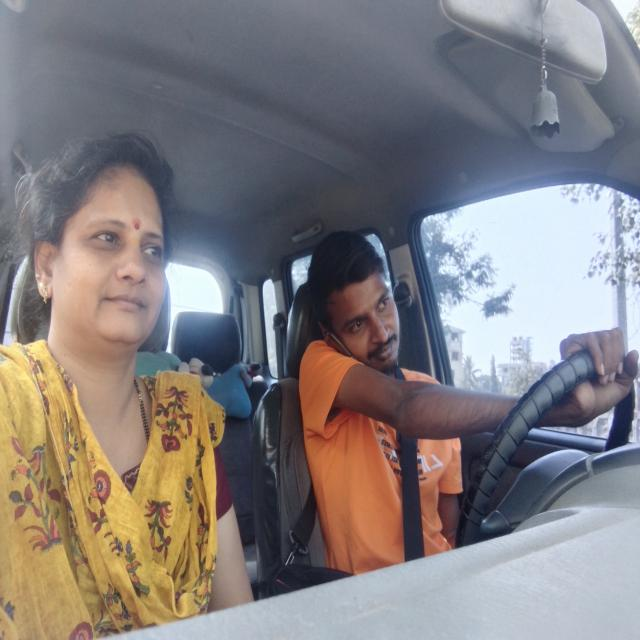mobile: (322, 328, 360, 373)
person: (23, 118, 185, 397), (305, 222, 416, 402)
